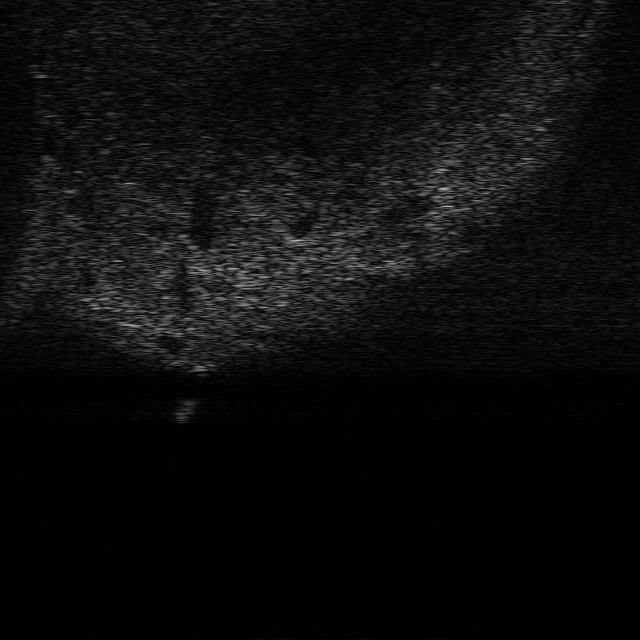cylinder: (171, 396, 199, 424)
